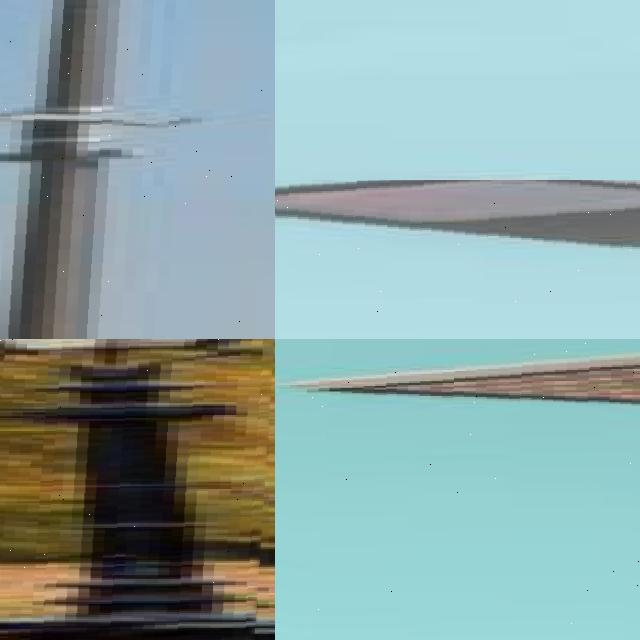street light: (290, 339, 640, 640), (0, 0, 275, 339), (0, 339, 275, 640), (275, 180, 640, 339)
